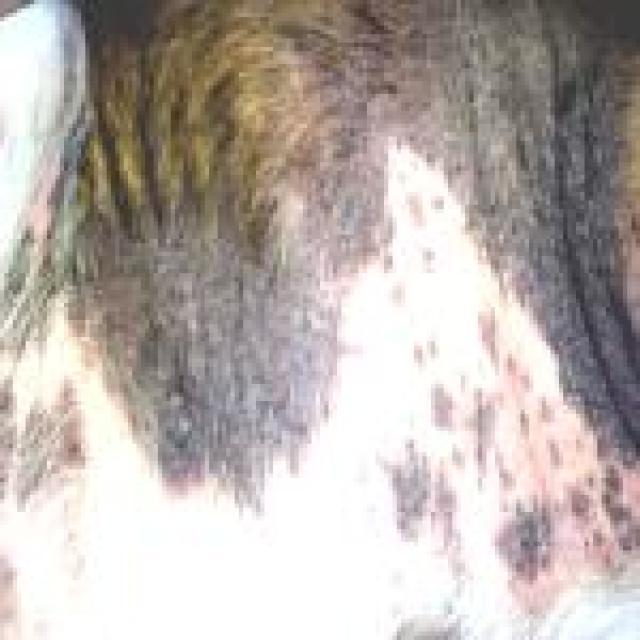fungal infection: (502, 428, 640, 606), (361, 444, 476, 574), (411, 309, 495, 459), (10, 378, 89, 520), (494, 318, 560, 439), (396, 172, 467, 258), (361, 251, 451, 306)
